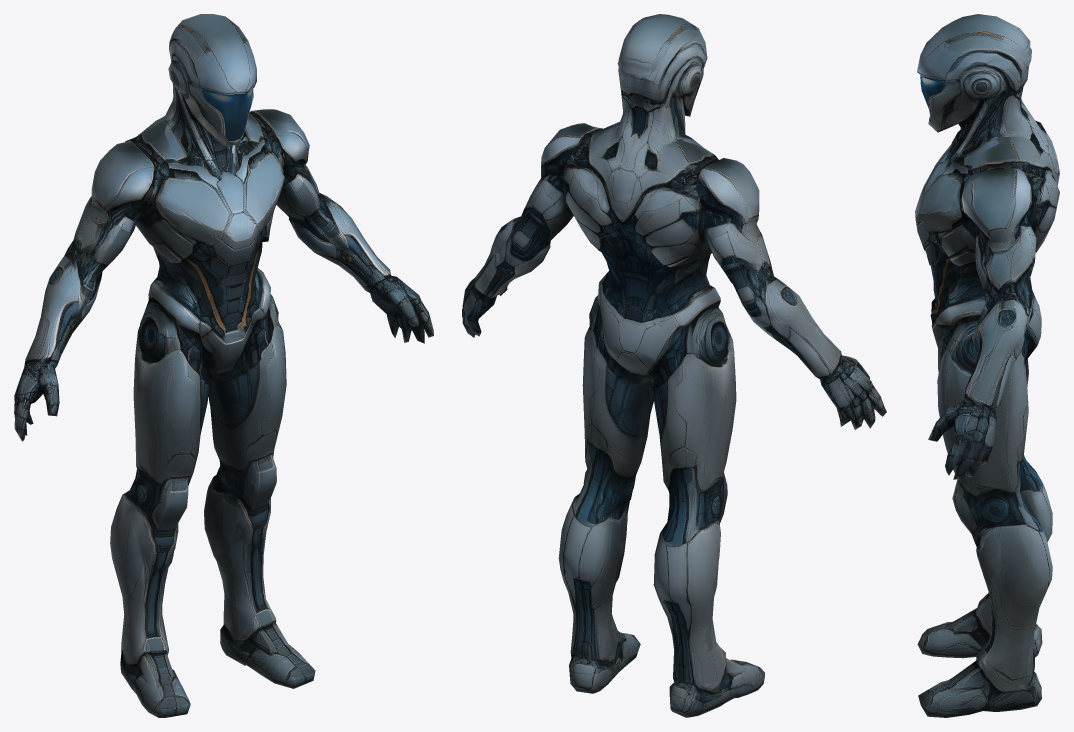
Rendered from mentor.glb.
3 renders of one model, left to right at view 1: azimuth 30°, elevation 25°; view 2: azimuth 150°, elevation 25°; view 3: azimuth 270°, elevation 25°, orthographic.
Parts seen in each view (by area): view 1: Mesh_0; view 2: Mesh_0; view 3: Mesh_0.
Part boxes in pixels (x1,y1,x2,y2): Mesh_0: [14, 14, 433, 717]; Mesh_0: [462, 14, 886, 717]; Mesh_0: [915, 14, 1059, 717].
Bounding box in the file's own units: 1.26 × 1.91 × 0.3801.
1 material, 1 textured.
